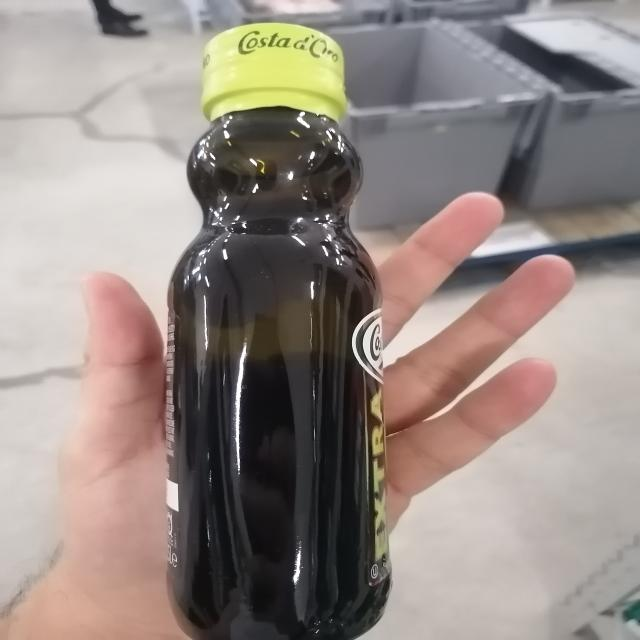object_name: (172, 27, 390, 640)
